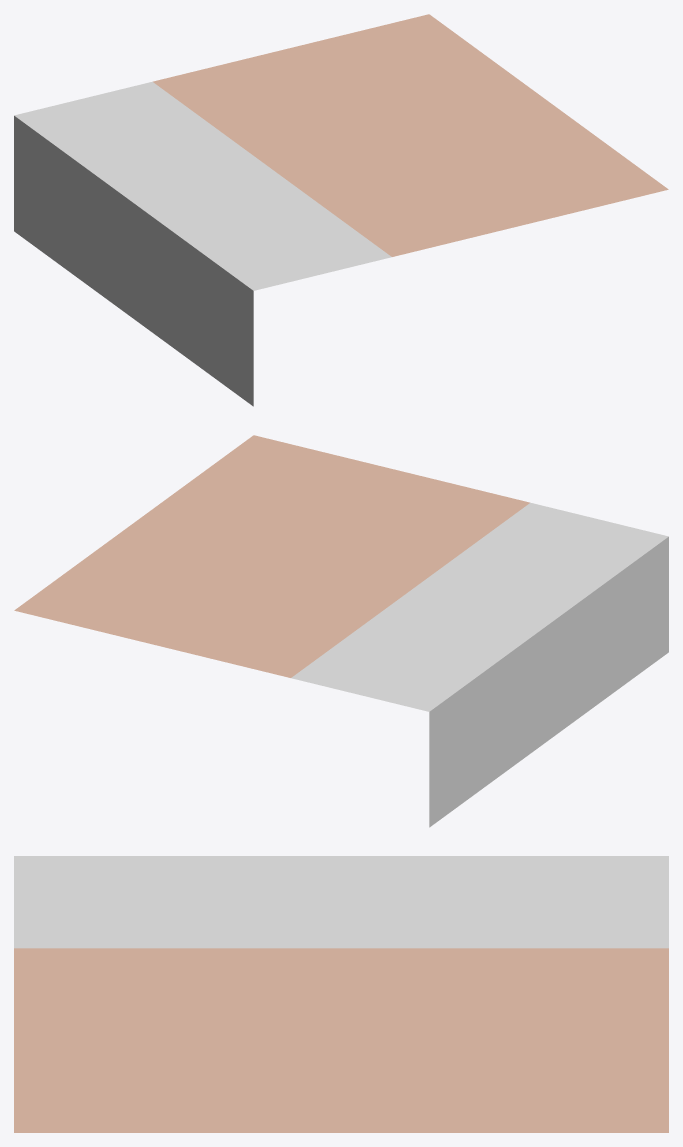
Rendered from platformLow.fbx.
3 renders of one model, top to bottom at view 1: azimuth 30°, elevation 25°; view 2: azimuth 150°, elevation 25°; view 3: azimuth 270°, elevation 25°, orthographic. The views are drawn at different scales.
Parts seen in each view (by area): view 1: platform_tile, platform_edge; view 2: platform_tile, platform_edge; view 3: platform_tile, platform_edge.
Boxes of the visible parts, <box> form: platform_tile: <box>153,14,668,256</box>; platform_edge: <box>14,81,391,406</box>; platform_tile: <box>14,435,529,677</box>; platform_edge: <box>291,502,668,827</box>; platform_tile: <box>14,948,668,1132</box>; platform_edge: <box>14,856,668,948</box>.
Size of the model in its own units: 3 by 0.8 by 3.
